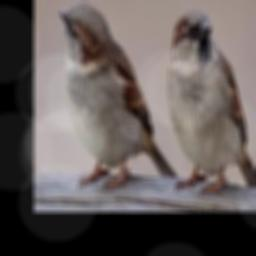Sparrow: (59, 3, 180, 189), (167, 8, 256, 194)
